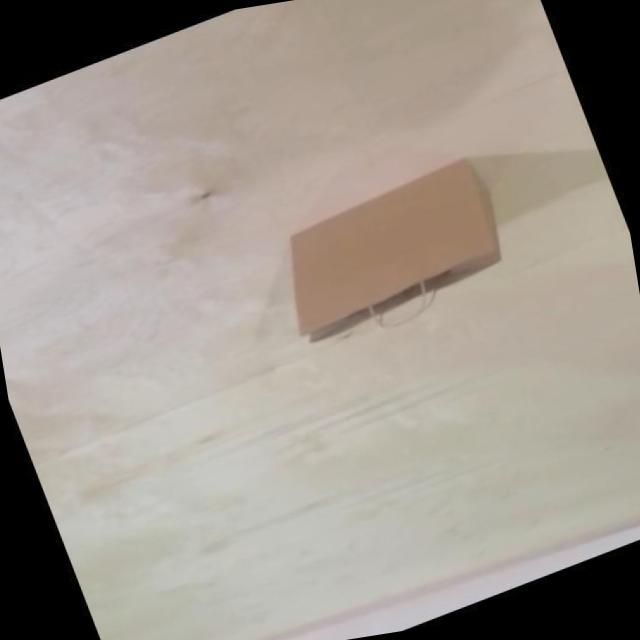Kardus: (274, 155, 512, 350)
